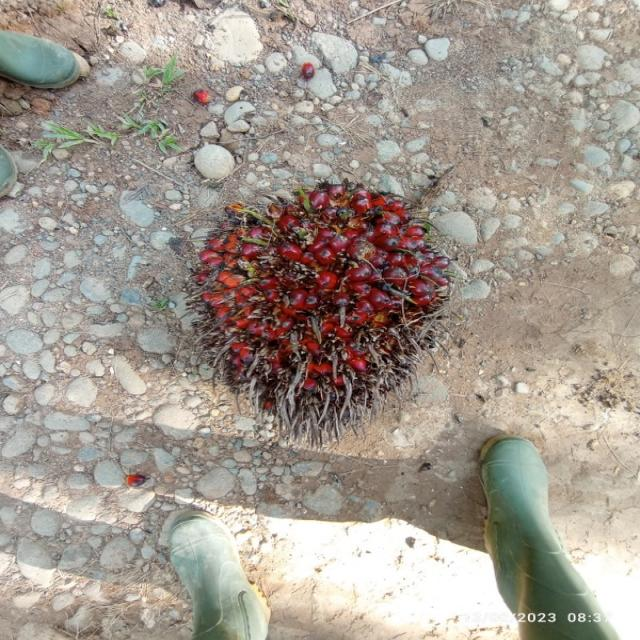fraksi 3: (154, 128, 452, 431)
